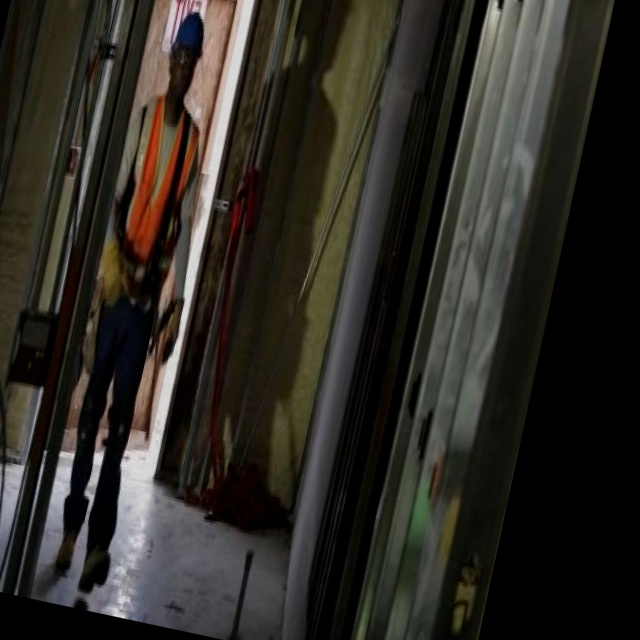Con_Chaleco: (102, 93, 208, 314)
